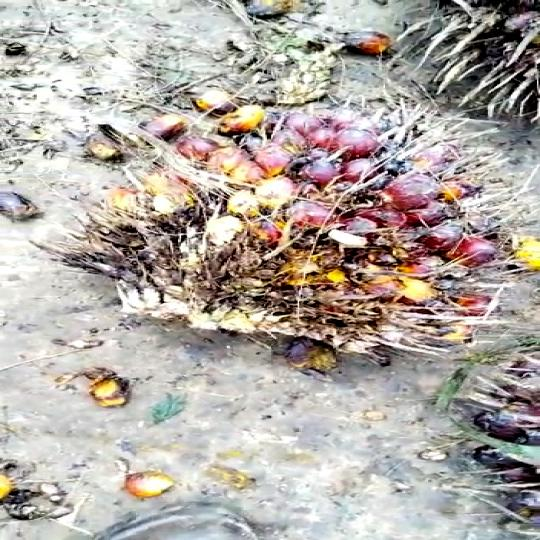masak: (75, 93, 523, 365)
